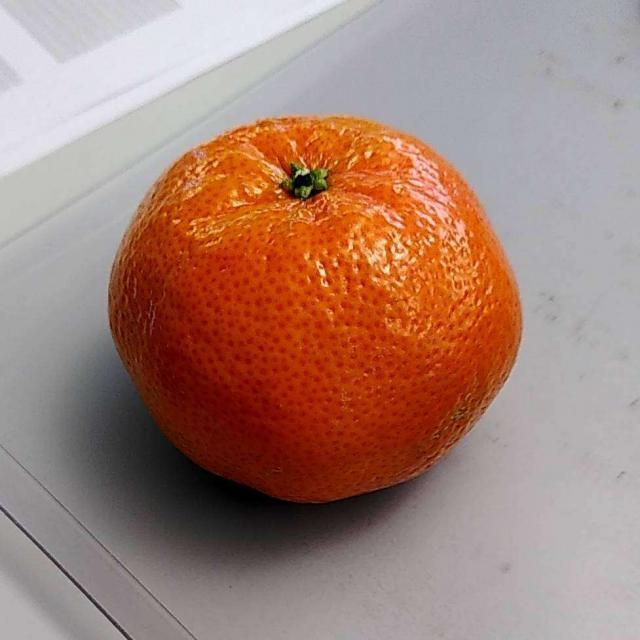mandarine: (110, 116, 516, 494)
